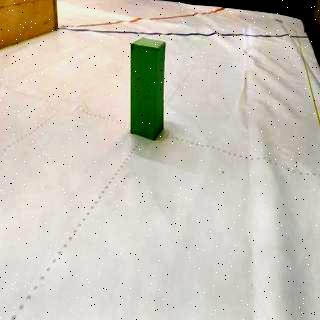greenbox: (130, 36, 167, 140)
